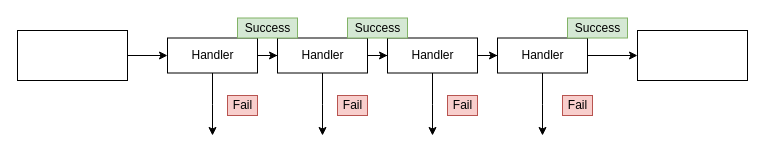
Image size: 765x161. Some labels were removed from this diagram. Each missing label, with the box of its shape:
Ordering system: (636, 30, 748, 80)
Request: (16, 30, 128, 80)
